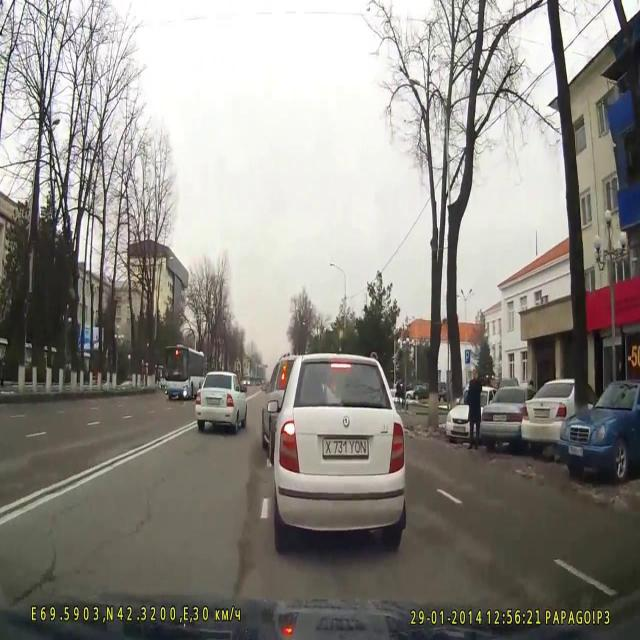car: (262, 352, 406, 545), (195, 370, 248, 433)
license: (321, 436, 369, 458)
